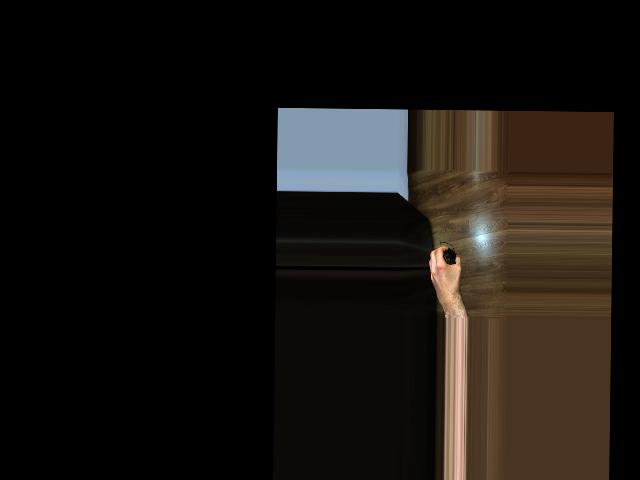beet: (439, 241, 456, 264)
